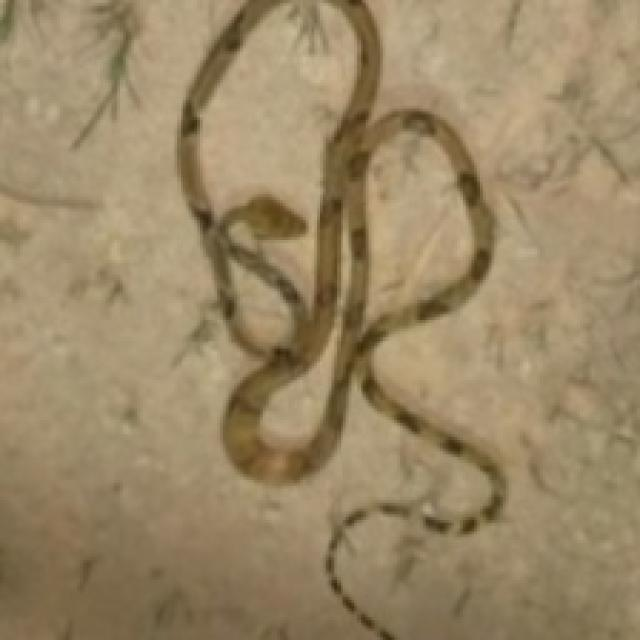dog-toothed cat snake: (177, 0, 503, 637)
